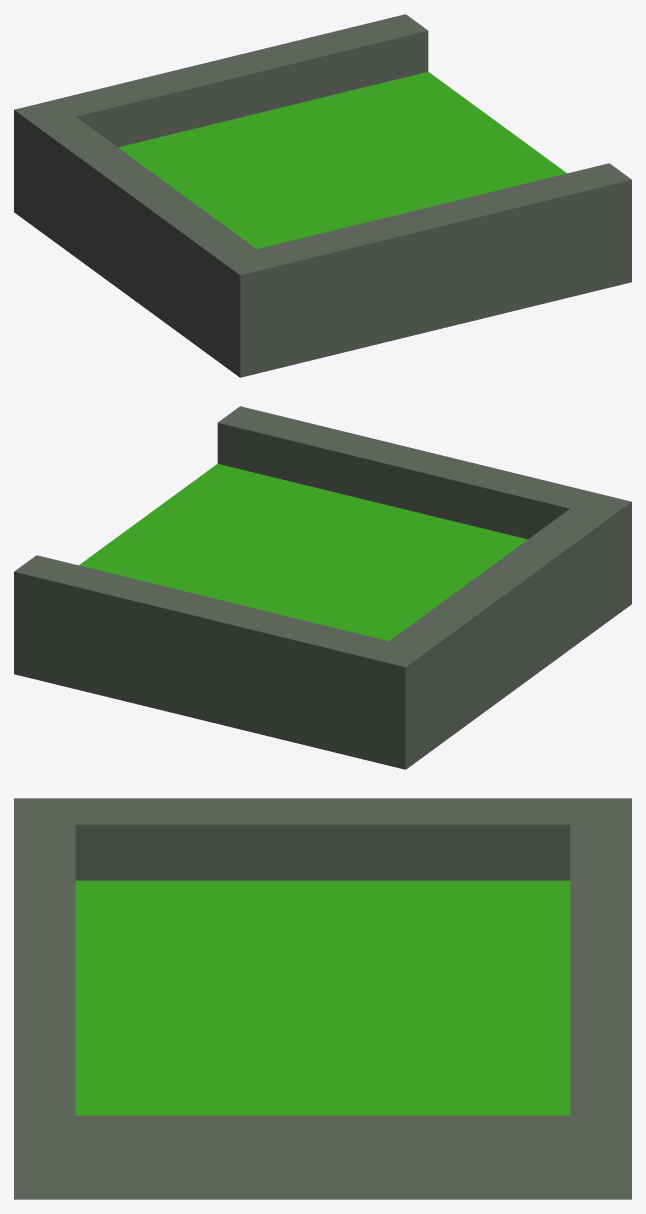
The model's file is EndPiece.fbx.
3 views of the same model, one above another, from view 1: azimuth 30°, elevation 25°; view 2: azimuth 150°, elevation 25°; view 3: azimuth 270°, elevation 25° (orthographic). The views are drawn at different scales.
Visible parts, largest first — view 1: EndPiece; view 2: EndPiece; view 3: EndPiece.
Boxes of the visible parts, <box> form: EndPiece: <box>14,14,631,377</box>; EndPiece: <box>14,406,631,769</box>; EndPiece: <box>14,798,631,1199</box>.
Size of the model in its own units: 200 by 50 by 200.
